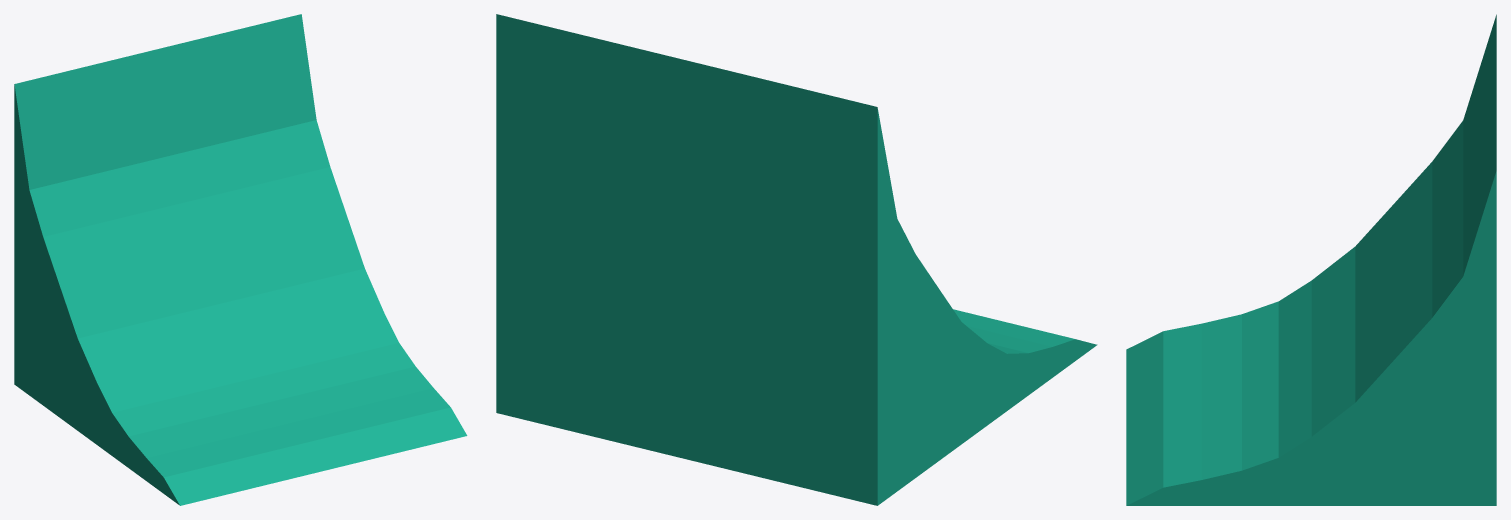
Rendered from Jumpbar.obj.
3 renders of one model, left to right at view 1: azimuth 30°, elevation 25°; view 2: azimuth 150°, elevation 25°; view 3: azimuth 270°, elevation 25°, orthographic. The views are drawn at different scales.
Visible parts, largest first — view 1: Box001; view 2: Box001; view 3: Box001.
Part boxes in pixels (box(x1,y1,x2,y2)): Box001: box(14, 14, 467, 505); Box001: box(496, 14, 1097, 505); Box001: box(1126, 14, 1496, 505).
Size of the model in its own units: 1 by 1 by 1.
